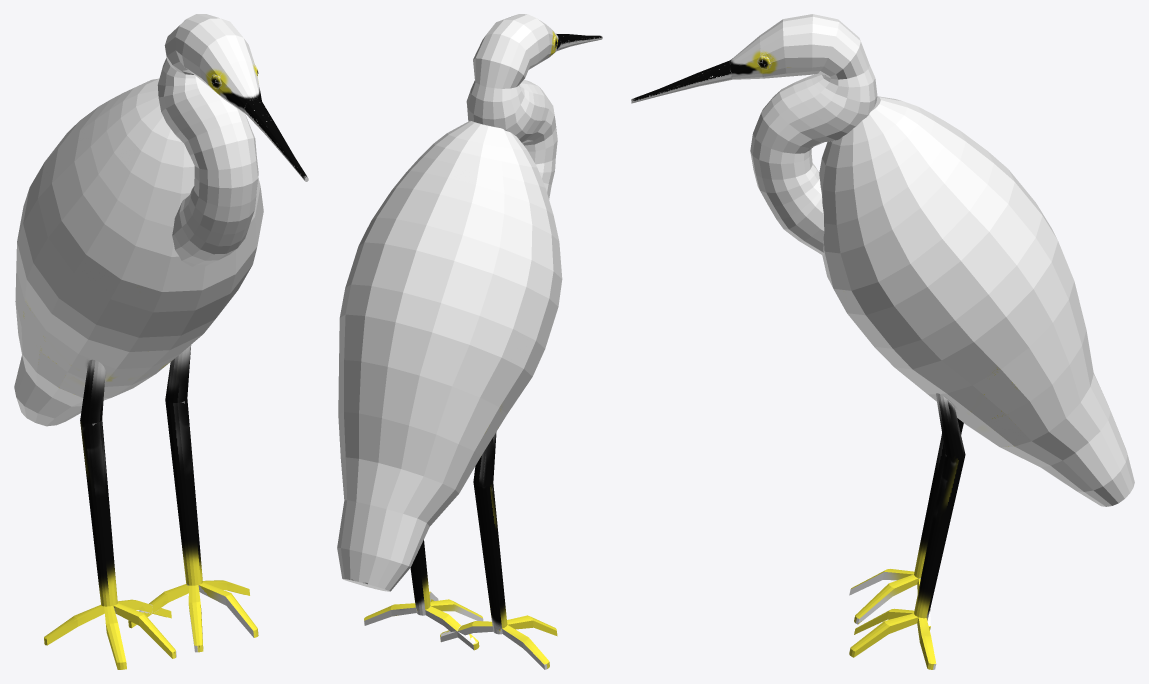
Rendered from Color_littleegret.fbx.
The picture shows the model from 3 angles, left to right: view 1: azimuth 30°, elevation 25°; view 2: azimuth 150°, elevation 25°; view 3: azimuth 270°, elevation 25°; orthographic projection. The views are drawn at different scales.
Parts seen in each view (by area): view 1: Bird Little egret; view 2: Bird Little egret; view 3: Bird Little egret.
Boxes of the visible parts, <box> form: Bird Little egret: <box>14,14,308,669</box>; Bird Little egret: <box>337,14,602,669</box>; Bird Little egret: <box>631,14,1134,669</box>.
Size of the model in its own units: 476 by 1457 by 1087.
